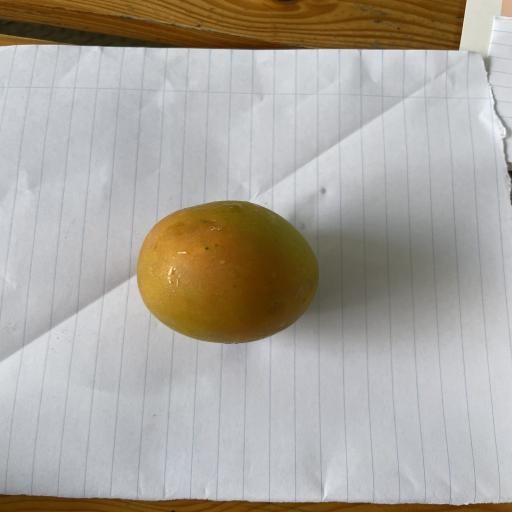unripe: (137, 201, 318, 343)
